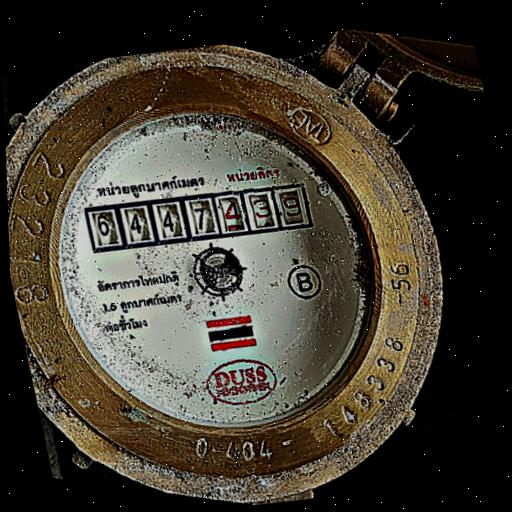3: (248, 191, 274, 230)
4: (218, 196, 245, 234), (124, 207, 151, 243), (157, 203, 182, 239)
6: (93, 211, 118, 246)
7: (190, 199, 214, 236)
9: (278, 190, 304, 224)
border_water_meter_number: (82, 167, 316, 266)
